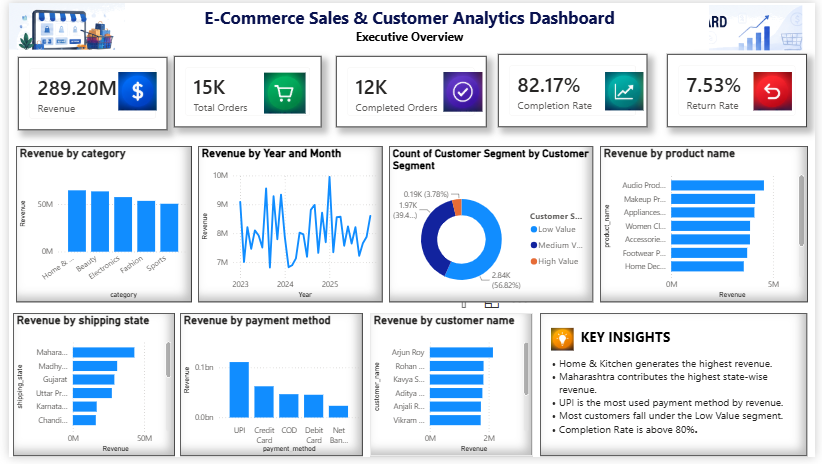

This screenshot's page, from the dashboard's own definition file:
{"tool":"powerbi","page":{"name":"Executive Overview","canvas":[1280,720],"ordinal":0},"visuals":[{"type":"cardVisual","fields":{"Data":["order_items_cleaned.Revenue"]},"box":[14.9,85.1,237.3,116.4],"z":0},{"type":"cardVisual","fields":{"Data":["orders_cleaned.Total Orders"]},"box":[262.7,83.6,234.3,113.4],"z":1000},{"type":"cardVisual","fields":{"Data":["orders_cleaned.Completed Orders"]},"box":[519.4,83.6,238.8,113.4],"z":2000},{"type":"cardVisual","fields":{"Data":["orders_cleaned.Completion Rate"]},"box":[776.1,80.6,237.3,116.4],"z":3000},{"type":"cardVisual","fields":{"Data":["orders_cleaned.Return Rate"]},"box":[1044.8,80.6,222.4,116.4],"z":4000},{"type":"clusteredColumnChart","fields":{"Category":["products_cleaned.category"],"Y":["order_items_cleaned.Revenue"]},"box":[10.4,226.9,279.1,247.8],"z":5000},{"type":"lineChart","fields":{"Category":["orders_cleaned.order_date.Variation.Date Hierarchy.Year","orders_cleaned.order_date.Variation.Date Hierarchy.Month"],"Y":["order_items_cleaned.Revenue"]},"box":[300,226.9,292.5,247.8],"z":6000},{"type":"clusteredBarChart","title":"Revenue by shipping state","fields":{"Category":["orders_cleaned.shipping_state"],"Y":["order_items_cleaned.Revenue"]},"box":[6,492.5,256.7,226.9],"z":7000},{"type":"clusteredBarChart","title":"Revenue by product name","fields":{"Category":["products_cleaned.product_name"],"Y":["order_items_cleaned.Revenue"]},"box":[937.3,226.9,329.9,247.8],"z":8000},{"type":"clusteredColumnChart","title":"Revenue by payment method","fields":{"Category":["payments_cleaned.payment_method"],"Y":["order_items_cleaned.Revenue"]},"box":[271.6,492.5,289.6,226.9],"z":9000},{"type":"clusteredBarChart","title":"Revenue by customer name","fields":{"Category":["customers.customer_name"],"Y":["order_items_cleaned.Revenue"]},"box":[573.1,492.5,258.2,226.9],"z":10000},{"type":"donutChart","fields":{"Y":["CountNonNull(customers.Customer Segment)"],"Category":["customers.Customer Segment"]},"box":[603,226.9,323.9,247.8],"z":11000},{"type":"image","box":[171.6,109,65.7,61.2],"z":12000},{"type":"image","box":[404.5,109,65.7,67.2],"z":13000},{"type":"image","box":[682.1,109,76.1,62.7],"z":14000},{"type":"image","box":[1177.6,109,68.7,61.2],"z":15000},{"type":"image","box":[937.3,109,77.6,61.2],"z":16000},{"type":"image","box":[0,0,183.6,74.6],"z":17000},{"type":"textbox","box":[843.3,492.5,423.9,226.9],"z":18000},{"type":"image","box":[859.7,511.9,35.8,41.8],"z":19000},{"type":"image","box":[976.1,0,68.7,74.6],"z":20000},{"type":"textbox","box":[183.6,0,903,74.6],"z":21000},{"type":"image","box":[1103,3,164.2,71.6],"z":22000}]}

Visuals, with their boxes in screenshot pixels (x1, y1, x2, y2), scaled from the page's 1280x720 canvas onto the 822x464 screenshot:
cardVisual - order_items_cleaned.Revenue: 10:55:162:130
cardVisual - orders_cleaned.Total Orders: 169:54:319:127
cardVisual - orders_cleaned.Completed Orders: 334:54:487:127
cardVisual - orders_cleaned.Completion Rate: 498:52:651:127
cardVisual - orders_cleaned.Return Rate: 671:52:814:127
clusteredColumnChart - products_cleaned.category x order_items_cleaned.Revenue: 7:146:186:306
lineChart - orders_cleaned.order_date.Variation.Date Hierarchy.Year x orders_cleaned.order_date.Variation.Date Hierarchy.Month: 193:146:380:306
"Revenue by shipping state" clusteredBarChart: 4:317:169:463
"Revenue by product name" clusteredBarChart: 602:146:814:306
"Revenue by payment method" clusteredColumnChart: 174:317:360:463
"Revenue by customer name" clusteredBarChart: 368:317:534:463
donutChart - CountNonNull(customers.Customer Segment) x customers.Customer Segment: 387:146:595:306
image: 110:70:152:110
image: 260:70:302:114
image: 438:70:487:111
image: 756:70:800:110
image: 602:70:652:110
image: 0:0:118:48
textbox: 542:317:814:463
image: 552:330:575:357
image: 627:0:671:48
textbox: 118:0:698:48
image: 708:2:814:48
